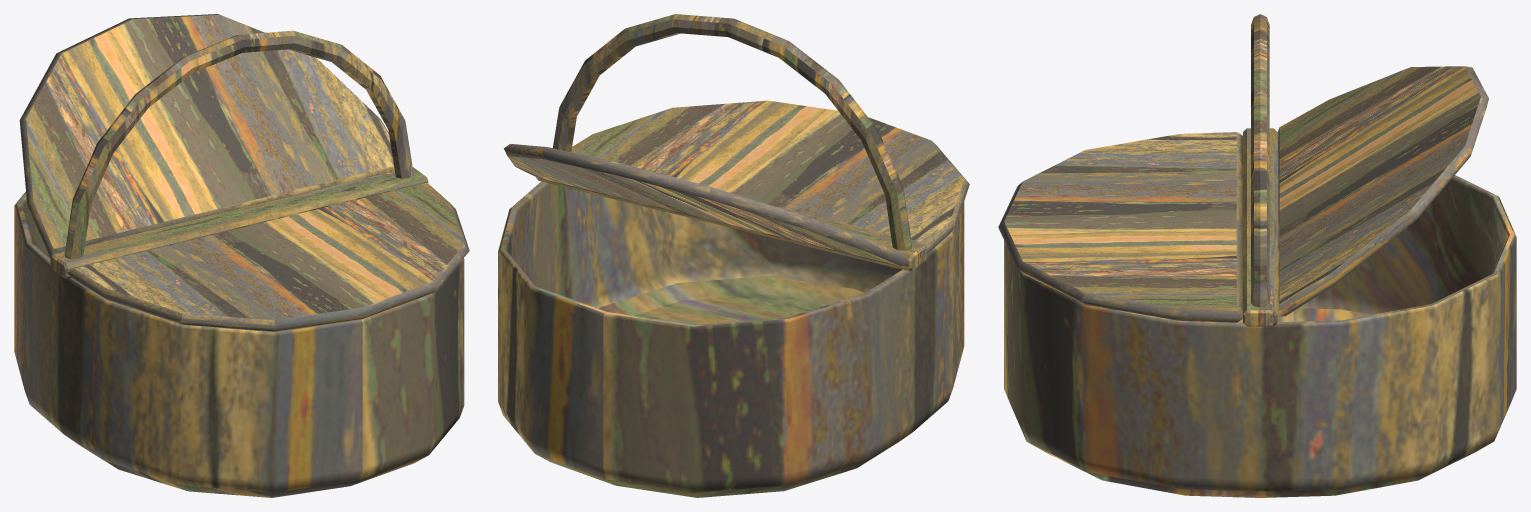
File: PicnicBasket_01.fbx
The picture shows the model from 3 angles, left to right: view 1: azimuth 30°, elevation 25°; view 2: azimuth 150°, elevation 25°; view 3: azimuth 270°, elevation 25°; orthographic projection. The views are drawn at different scales.
Parts seen in each view (by area): view 1: PicnicBasket_01; view 2: PicnicBasket_01; view 3: PicnicBasket_01.
Boxes of the visible parts, x1,y1,x2,y2 form: PicnicBasket_01: [14, 14, 469, 497]; PicnicBasket_01: [498, 14, 969, 497]; PicnicBasket_01: [998, 14, 1516, 497].
Bounding box in the file's own units: 4.36 × 4.24 × 5.19.
